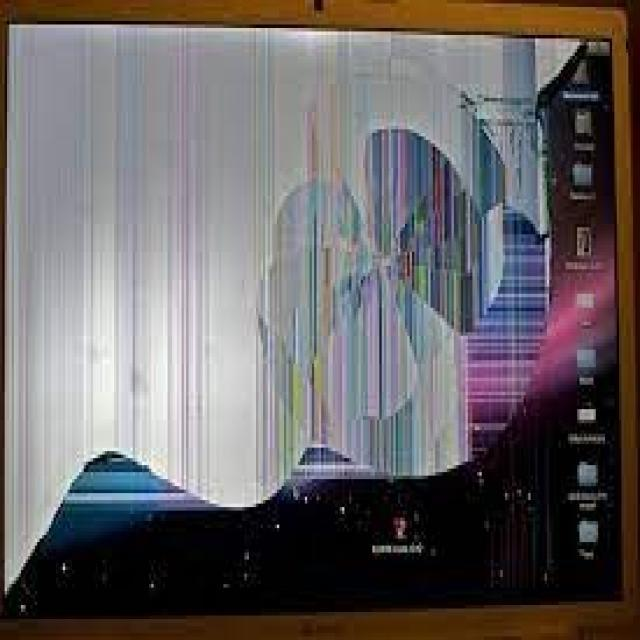Screen cracks: (10, 21, 586, 609)
